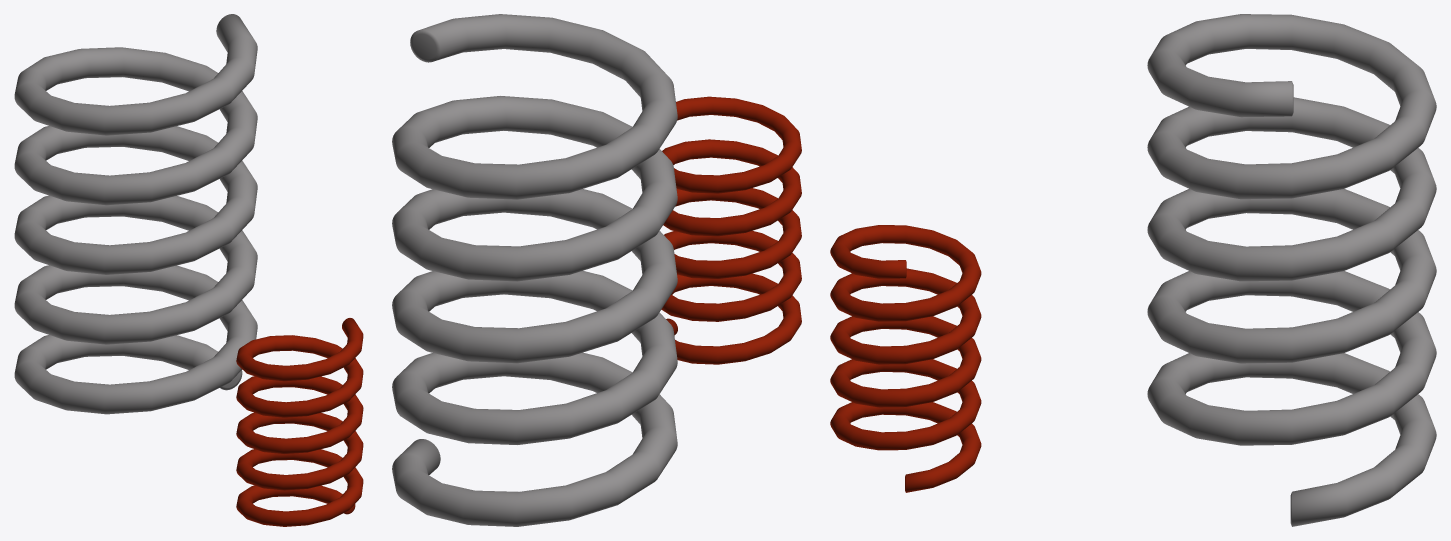
The model's file is CAPSTONEitems.fbx.
The picture shows the model from 3 angles, left to right: view 1: azimuth 30°, elevation 25°; view 2: azimuth 150°, elevation 25°; view 3: azimuth 270°, elevation 25°; orthographic projection. The views are drawn at different scales.
Parts seen in each view (by area): view 1: Circle, Circle.001; view 2: Circle, Circle.001; view 3: Circle, Circle.001.
Boxes of the visible parts, x1,y1,x2,y2 form: Circle: [14, 14, 257, 414]; Circle.001: [236, 318, 363, 526]; Circle: [392, 14, 677, 526]; Circle.001: [661, 96, 801, 364]; Circle: [1147, 14, 1436, 526]; Circle.001: [830, 225, 981, 492].
Size of the model in its own units: 46.48 by 78.49 by 97.44.
